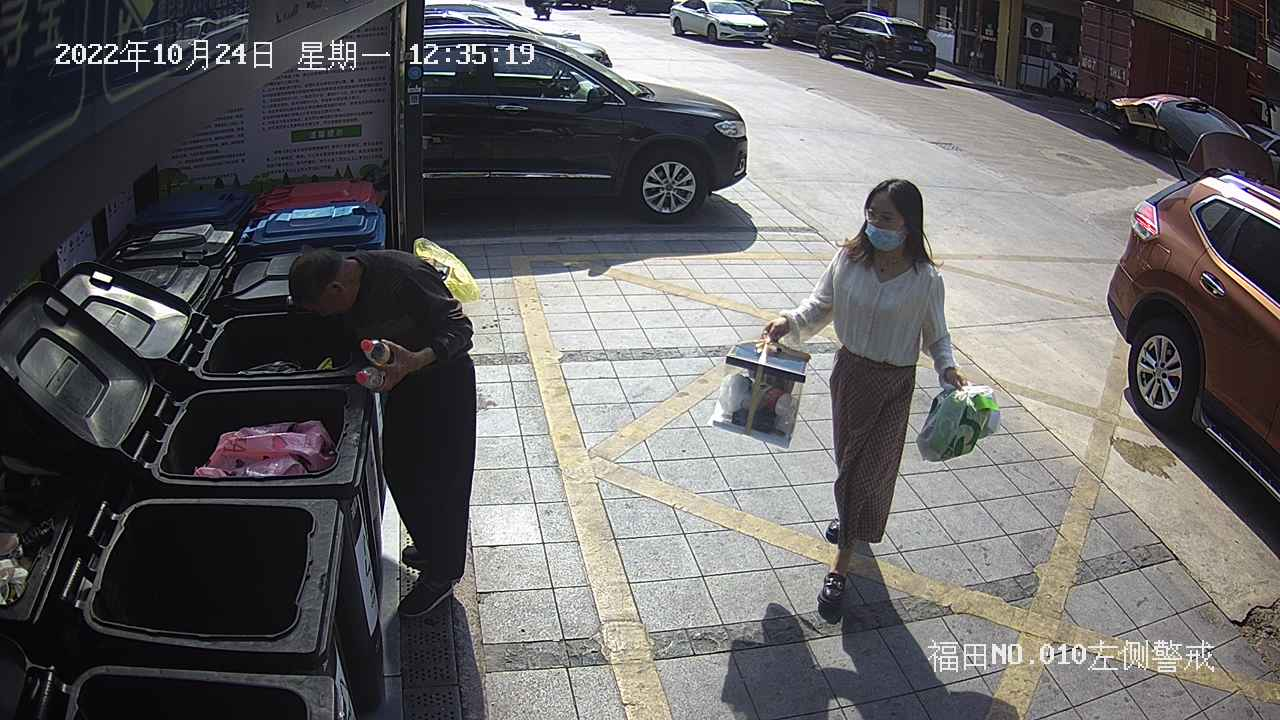garbage-bag: (705, 332, 818, 456), (913, 381, 1005, 462)
person: (756, 174, 976, 617), (278, 242, 480, 625)
suliaozhipin: (352, 334, 398, 399)
